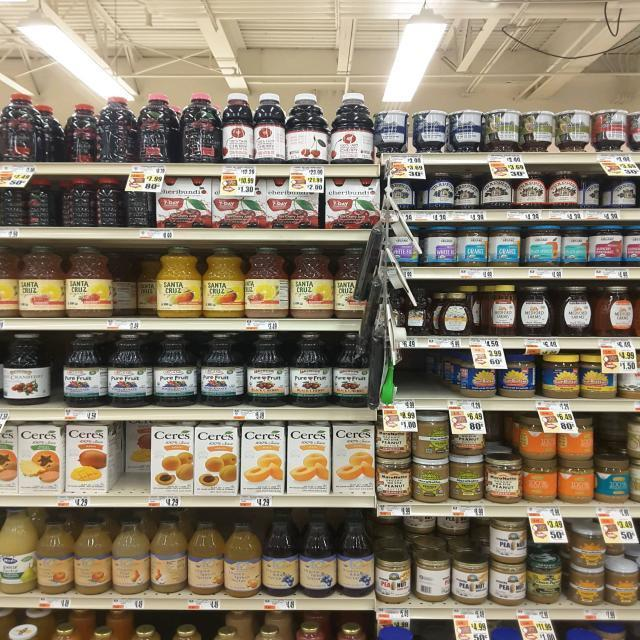Imprecise: (413, 512, 486, 602), (101, 242, 161, 324), (98, 417, 160, 493), (480, 406, 528, 504), (44, 92, 98, 166), (596, 413, 640, 501)
